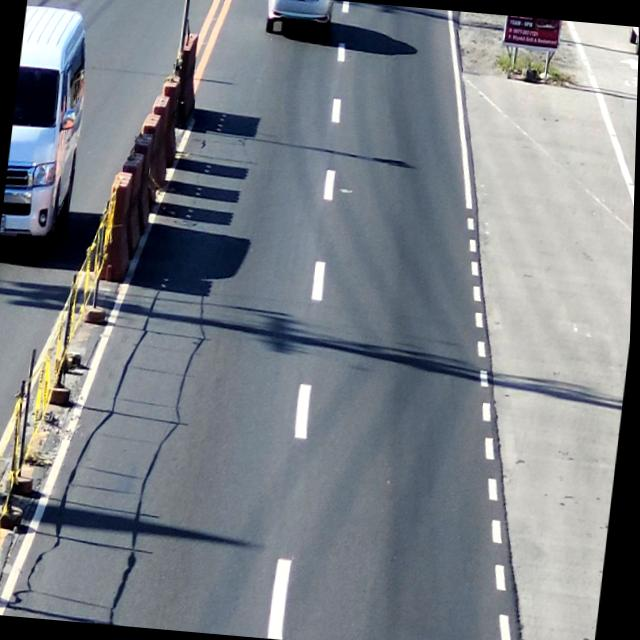Car: (263, 0, 337, 45)
